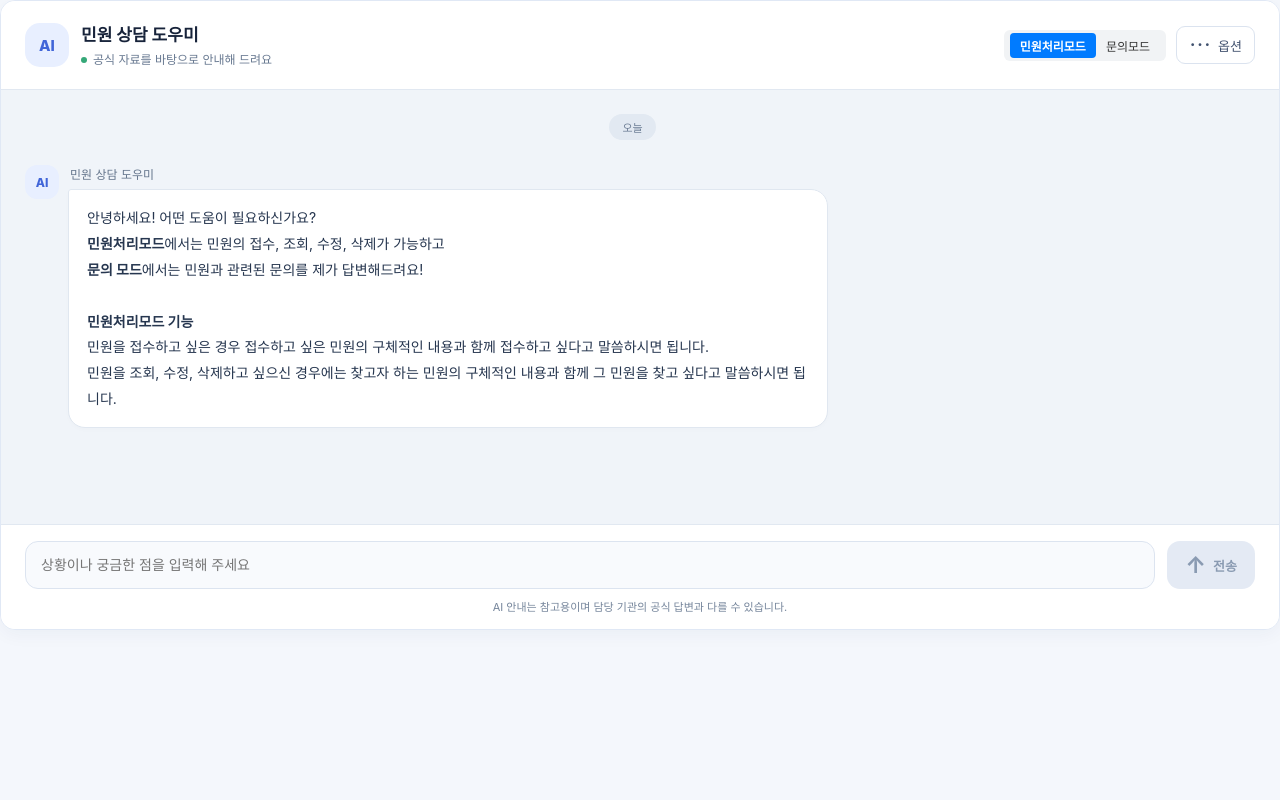
Test case: doc-main의 기존 AI 채팅 계약 유지 › shows errors and allows retry without replacing the AI implementation
Step 1. Type "연결 확인" into the text box named "메시지" → (590, 565), box top-left (25, 541), bottom-right (1155, 589)
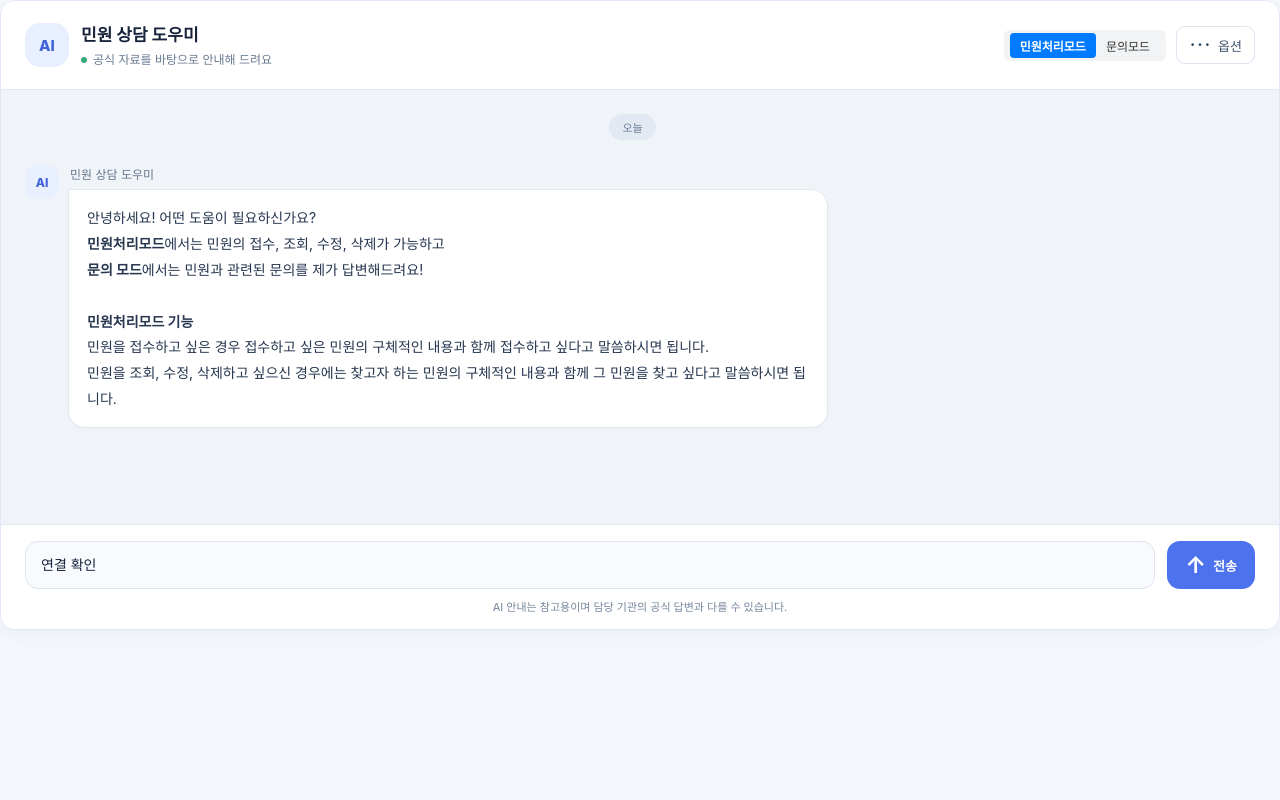
Step 2. Click the button "↑ 전송" → (1211, 565), box top-left (1167, 541), bottom-right (1255, 589)
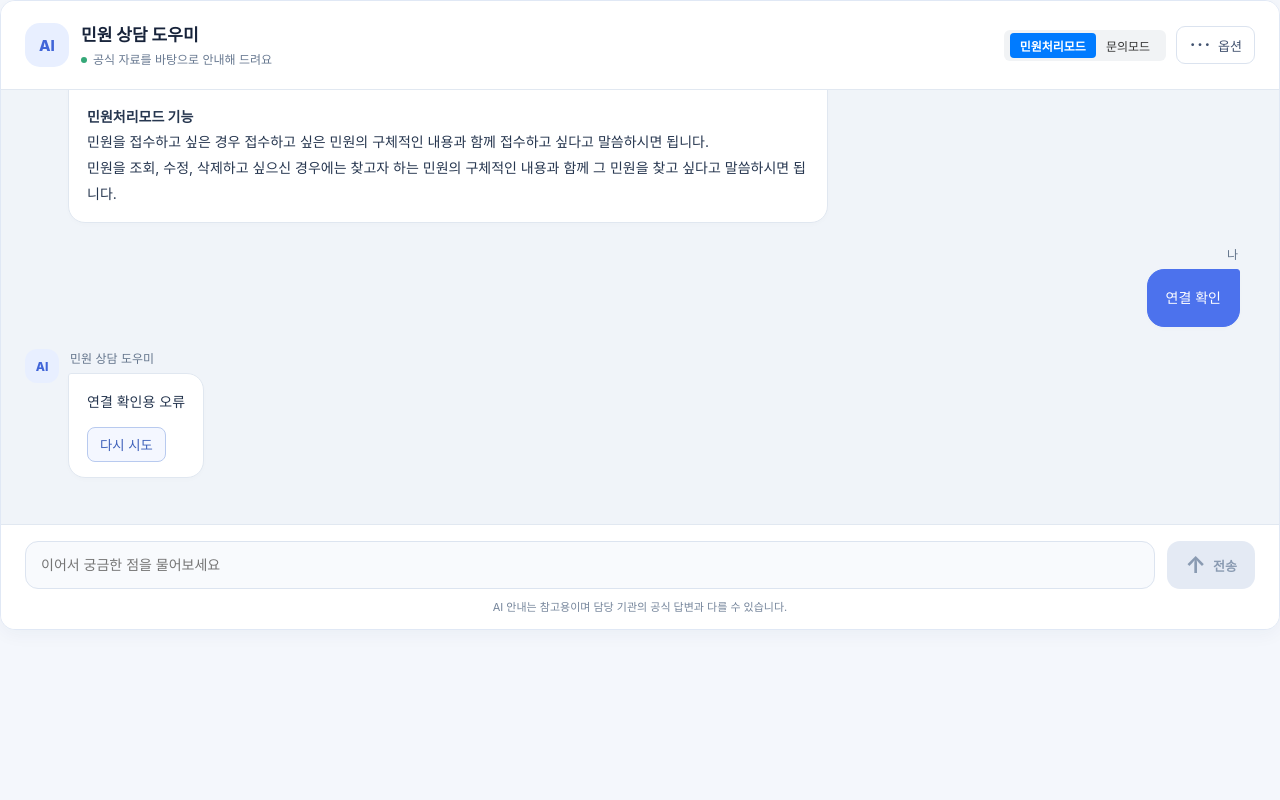
Result: the text "연결 확인용 오류" is shown at top-left (87, 389), bottom-right (185, 415)
Step 3. Click the button "다시 시도" → (126, 444), box top-left (87, 427), bottom-right (166, 462)
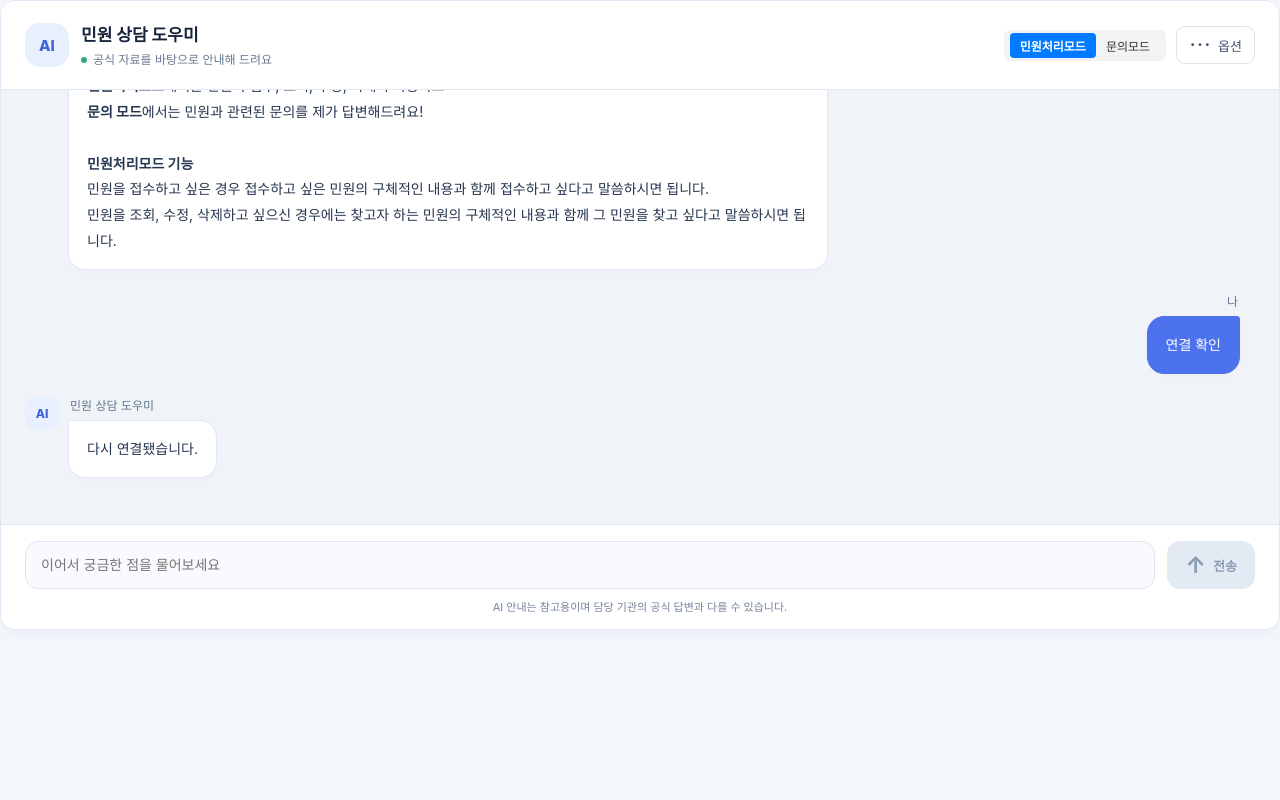
Result: the text "다시 연결됐습니다." is shown at top-left (87, 436), bottom-right (198, 462)
